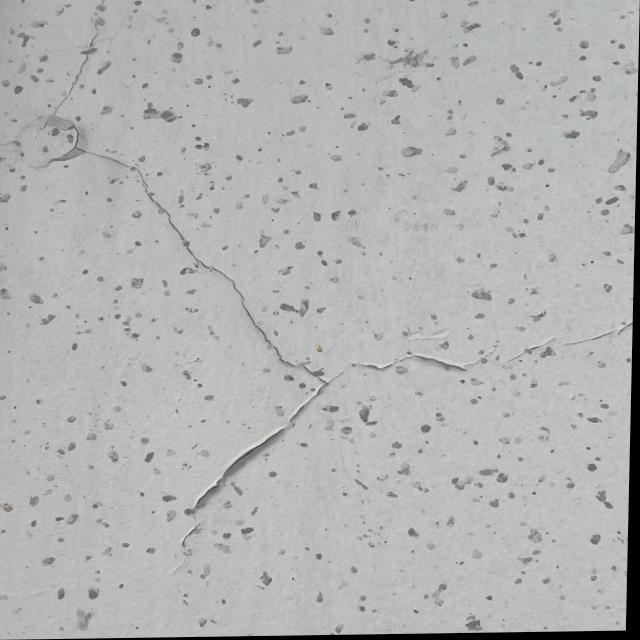crack: (39, 14, 632, 556)
